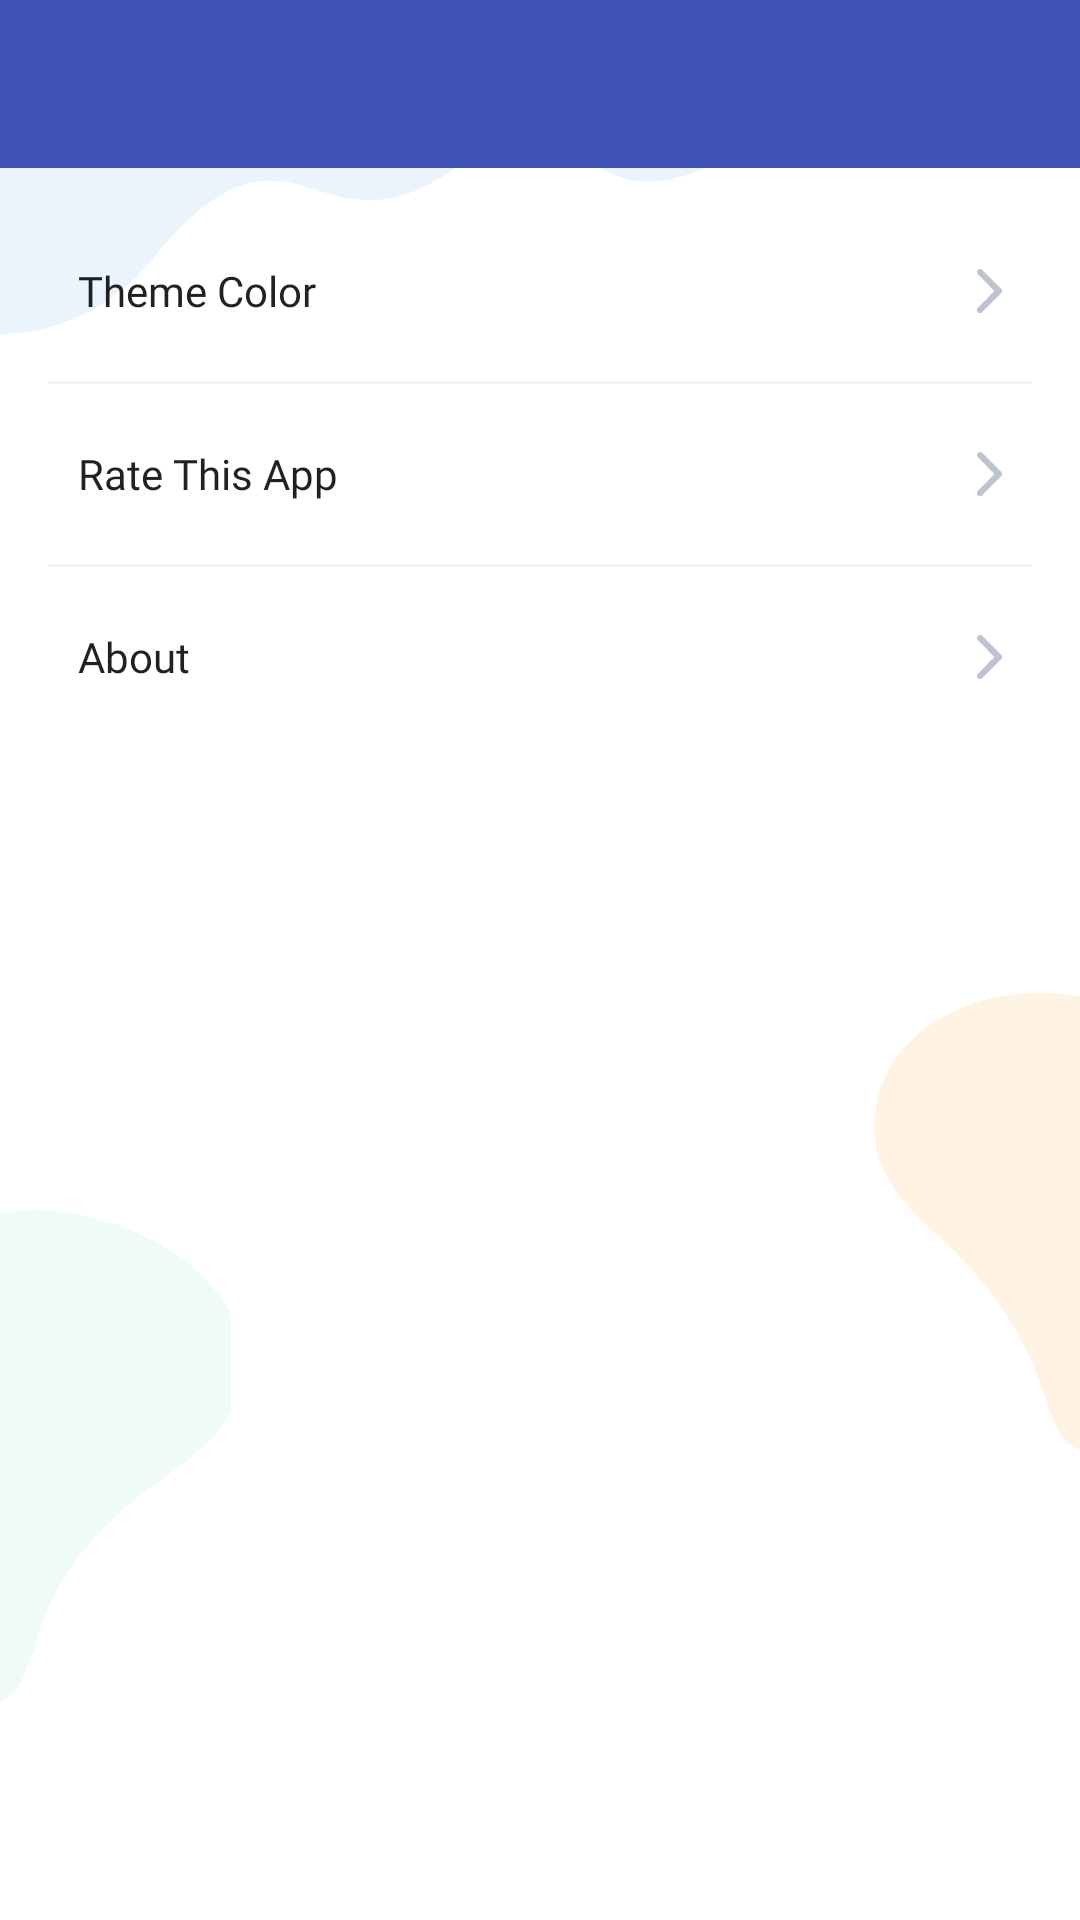

Screen size 1080 x 1920. Icon name, then its box in pixels as {"x1": x1, "y1": y1, "x2": x2, "y2": y2}:
right more: {"x1": 977, "y1": 269, "x2": 1002, "y2": 313}, {"x1": 977, "y1": 452, "x2": 1002, "y2": 496}, {"x1": 977, "y1": 635, "x2": 1002, "y2": 679}
